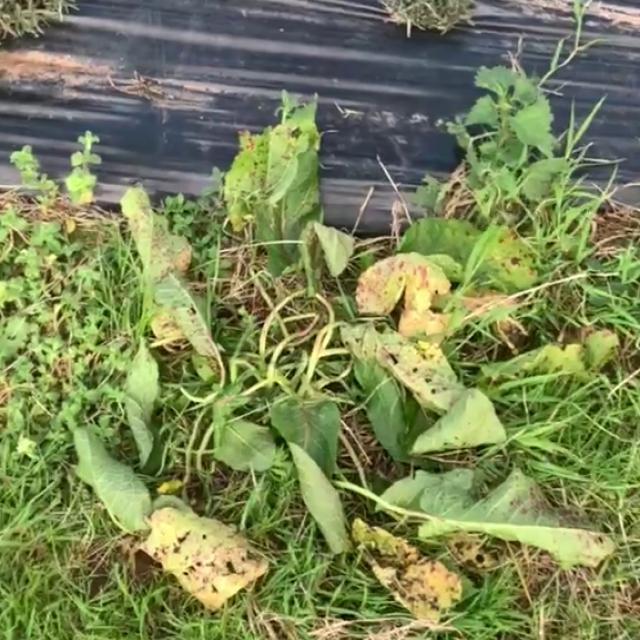organic waste: (91, 114, 639, 627)
